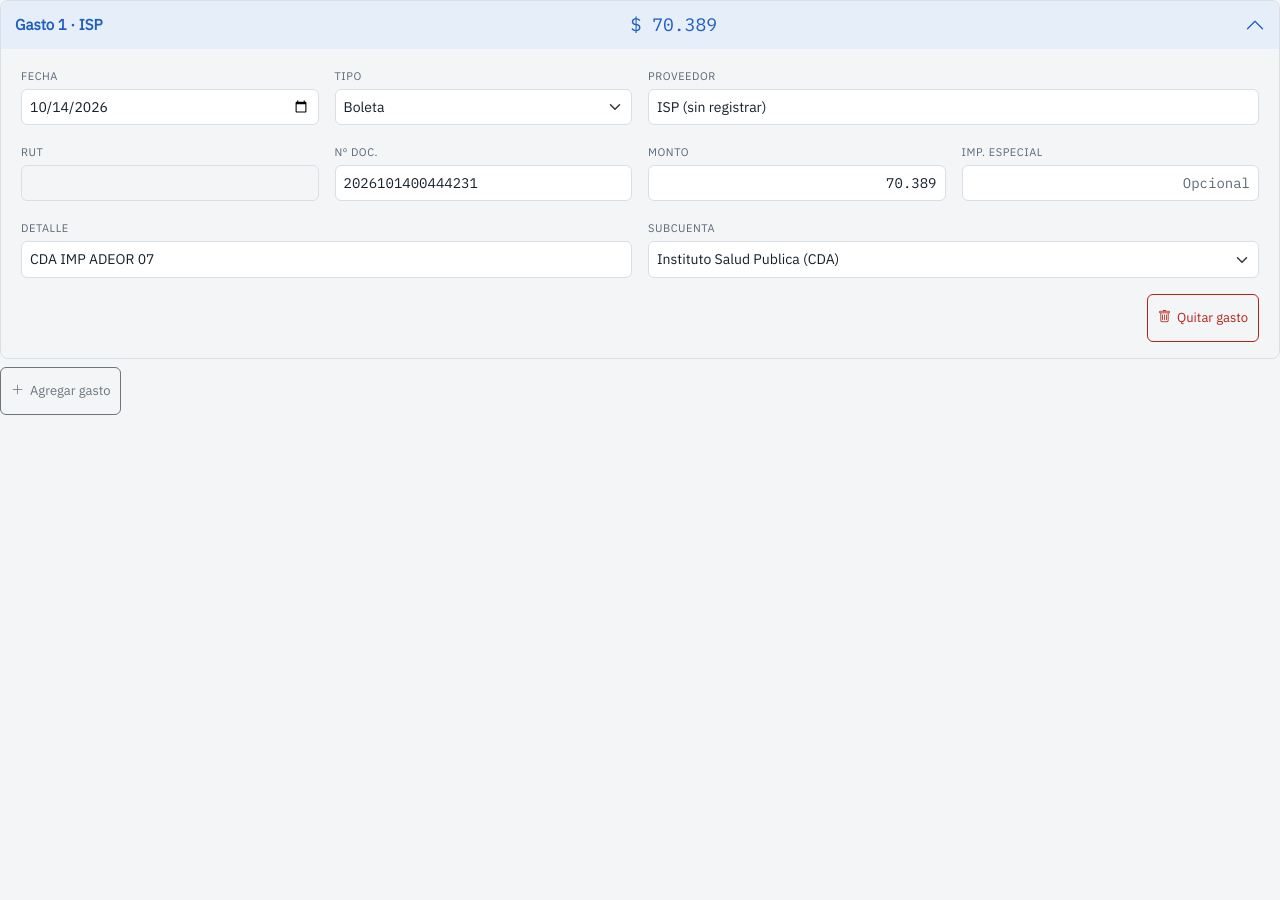
Test: LineasGastos › proveedor › "¿No está? Agrégalo" crea el proveedor en un modal y lo deja elegido
Focus the dropdown named "Proveedor gasto 1": (954, 107) [648, 89, 1259, 125]
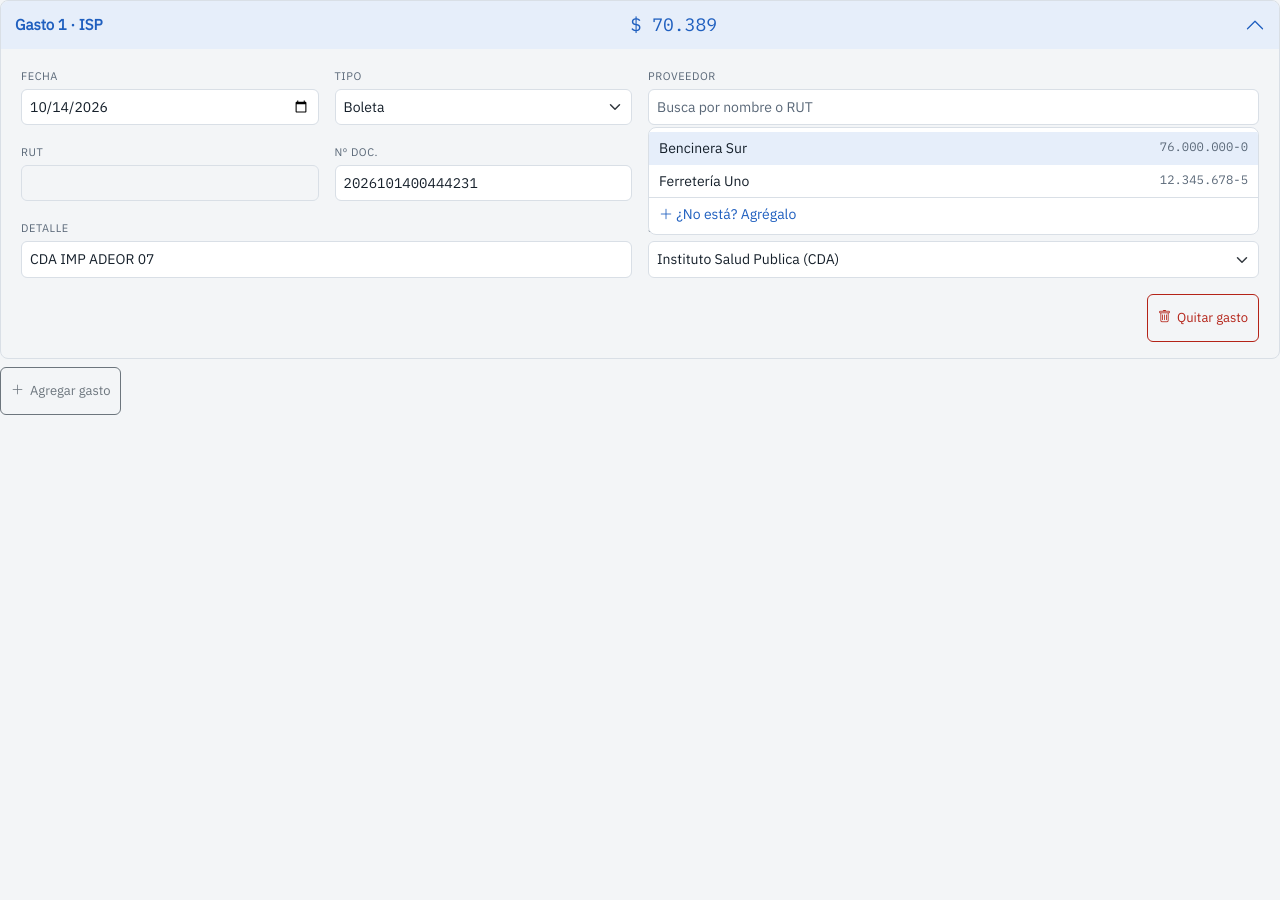
Press ArrowUp in the dropdown named "Proveedor gasto 1", box [648, 89, 1259, 125]
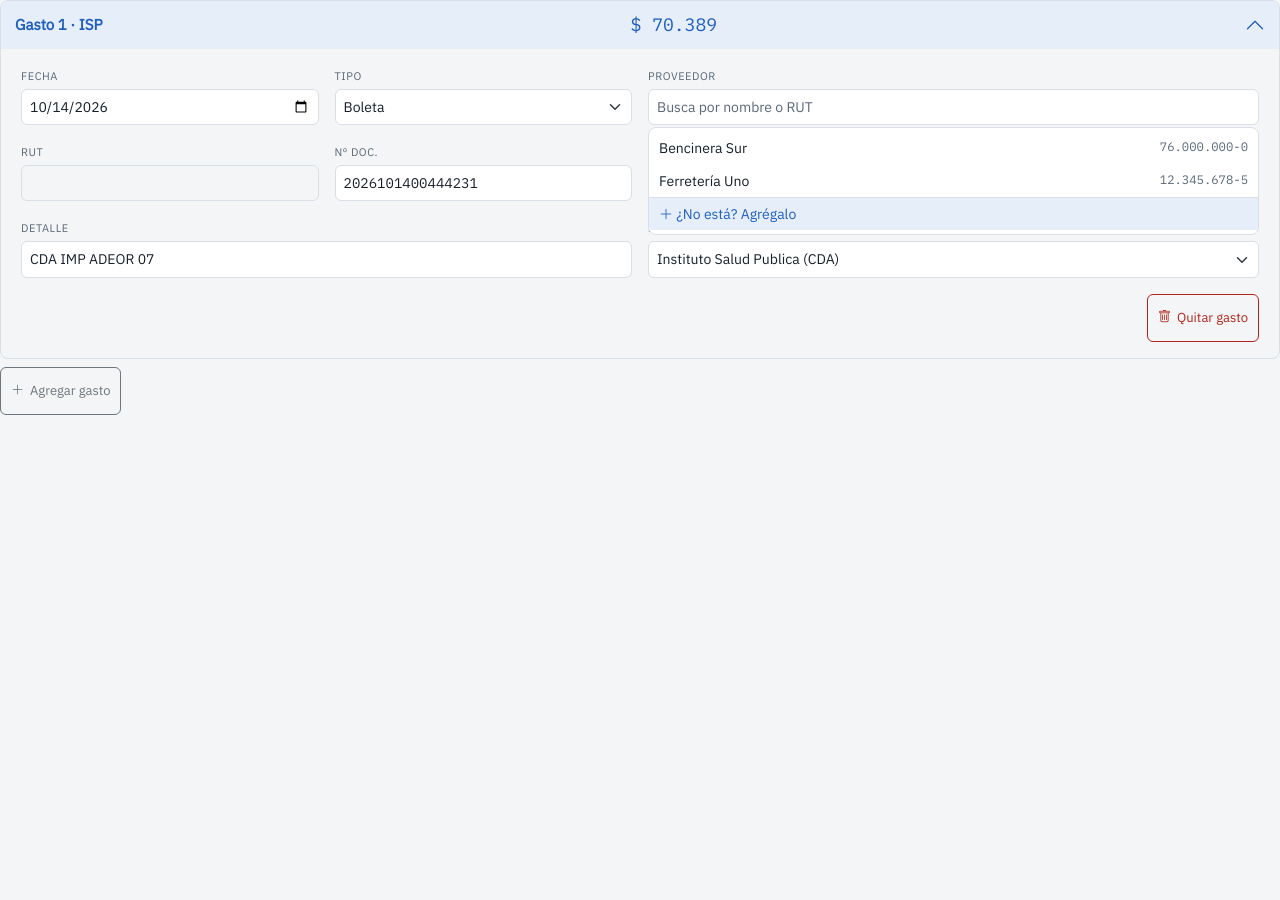
Press Enter in the dropdown named "Proveedor gasto 1", box [648, 89, 1259, 125]
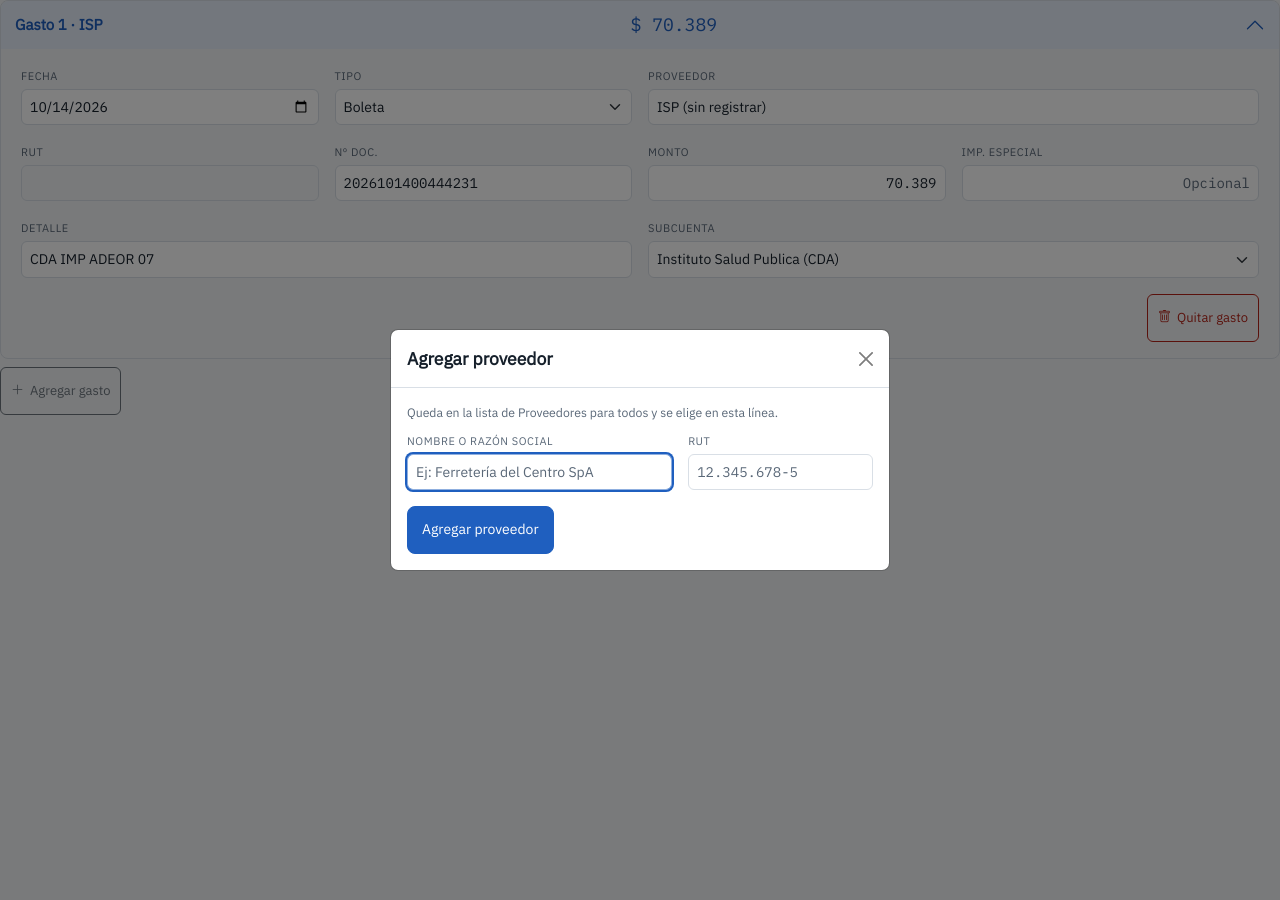
Expected: the dialog shows "Agregar proveedor", [407, 347, 553, 370]
In the field labelled "Nombre o razón social": (540, 472) [407, 454, 672, 490], type "Nuevo Taller"
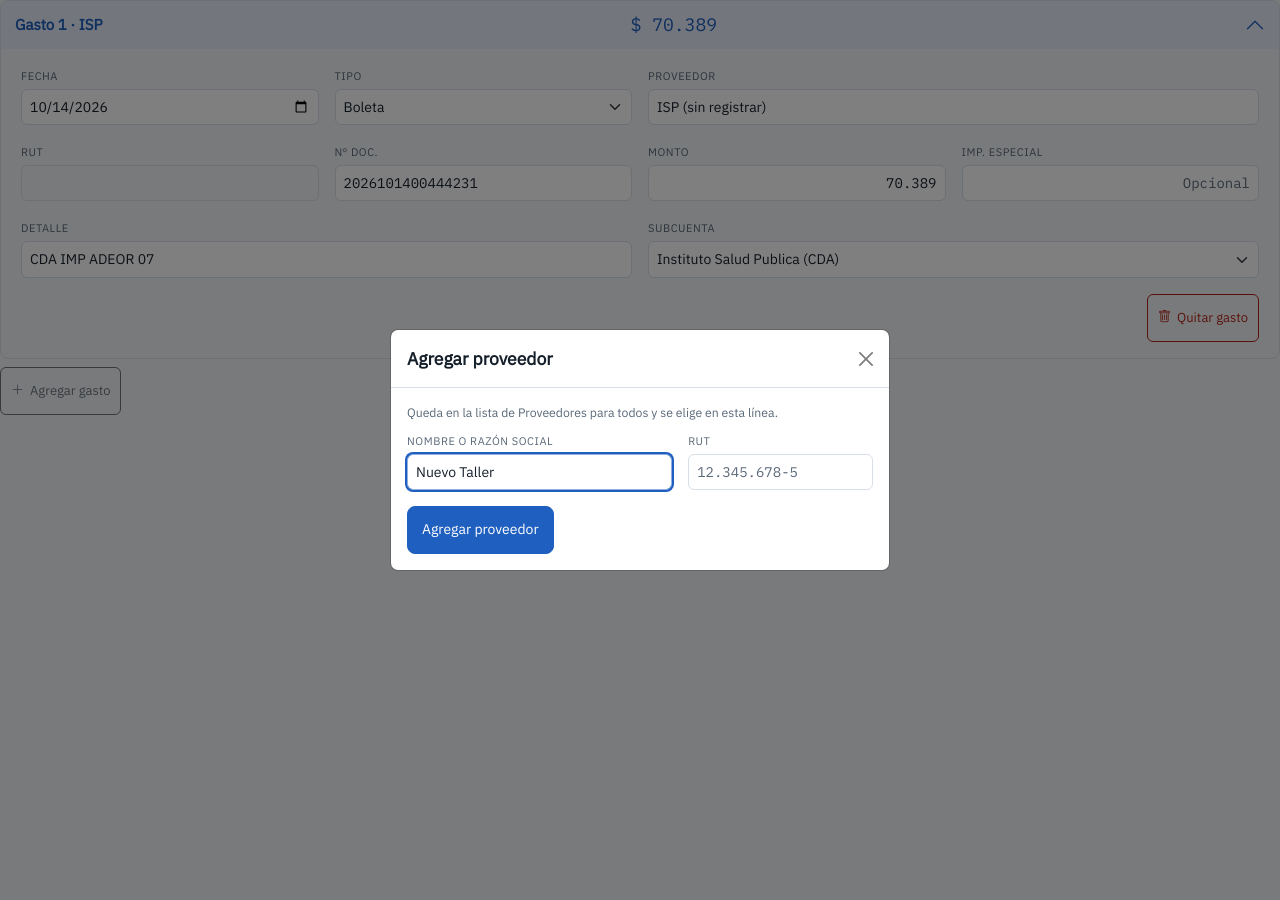
In the field labelled "RUT": (781, 472) [688, 454, 873, 490], type "10000013-K"
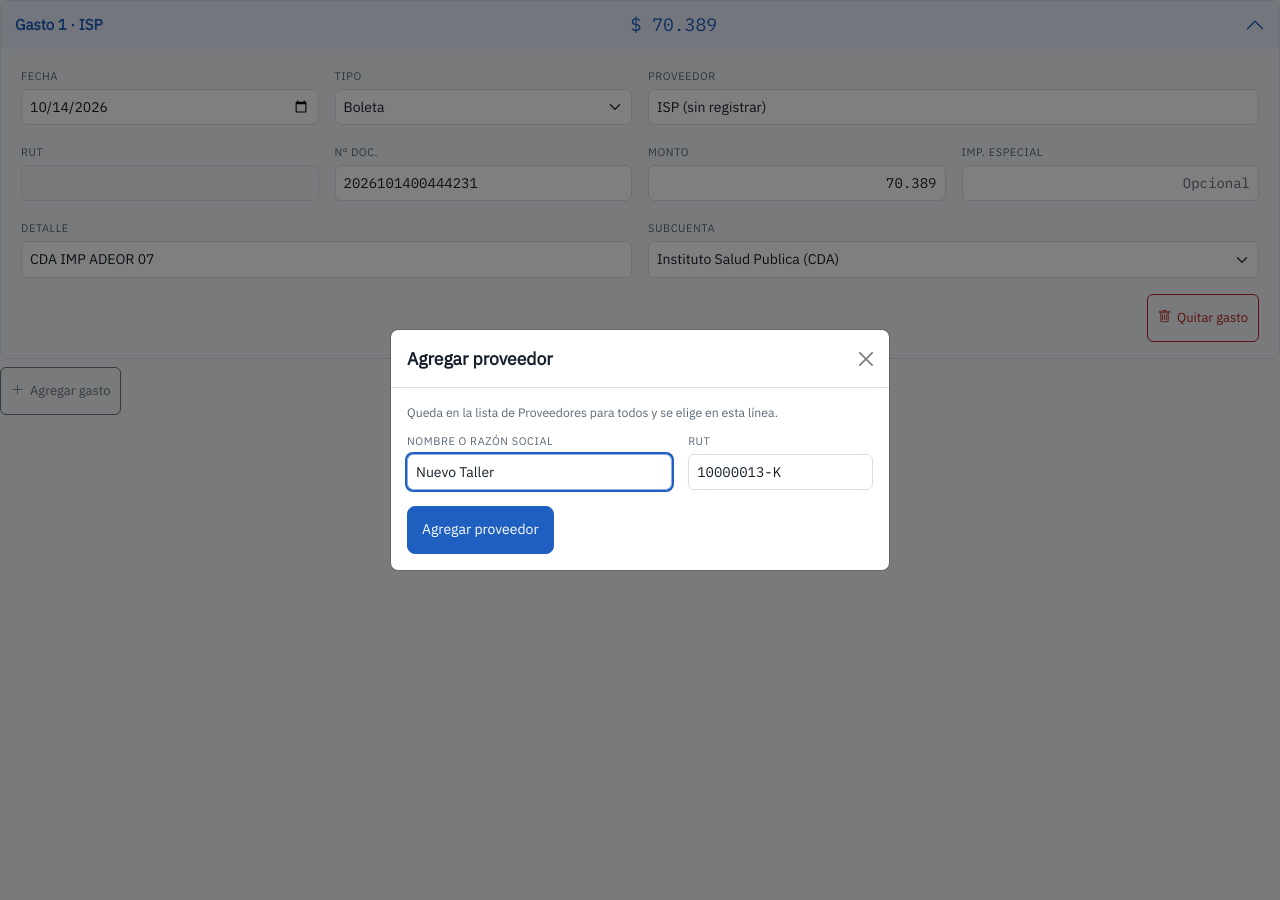
Submit the form, box [407, 430, 873, 554]
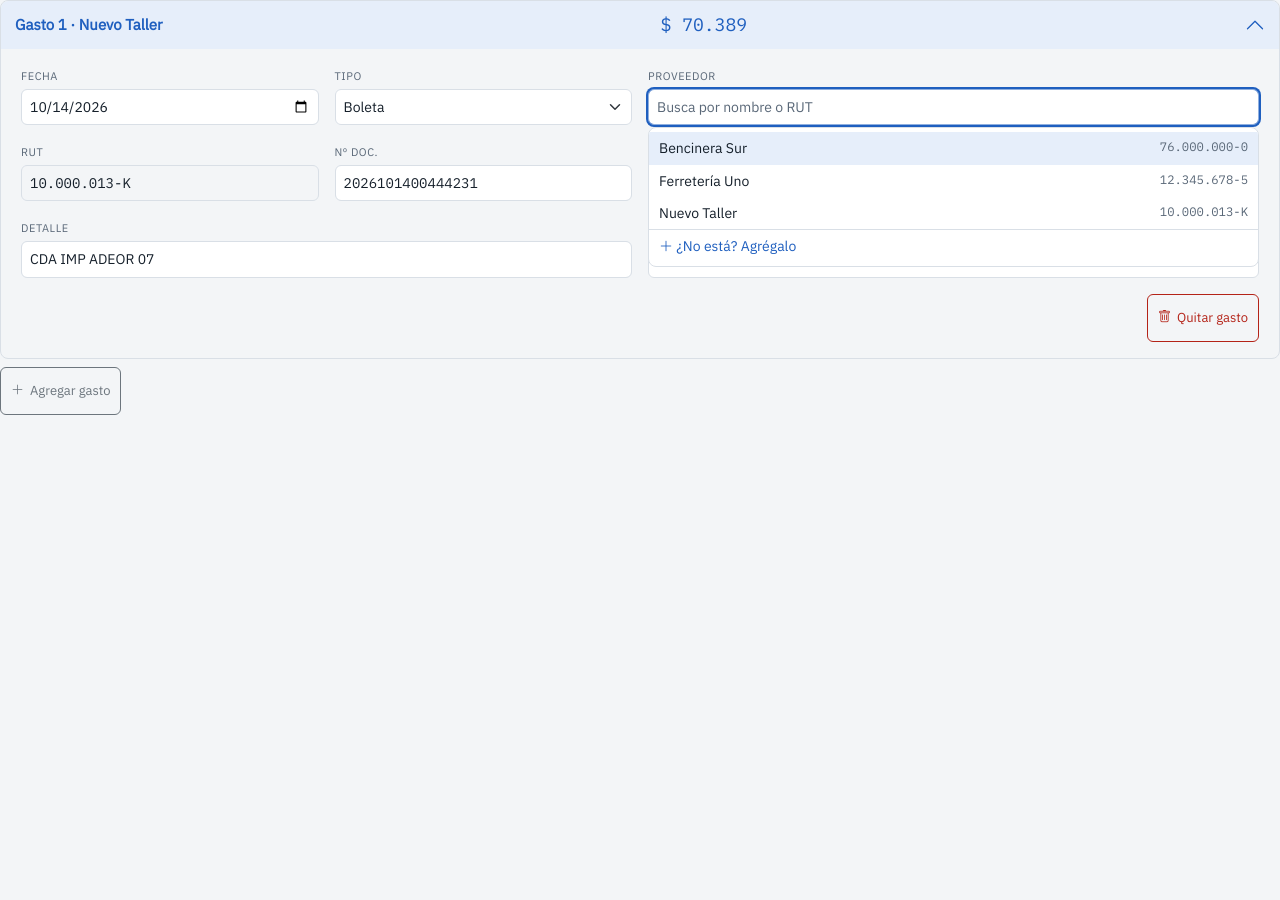
Expected: the dialog is gone
